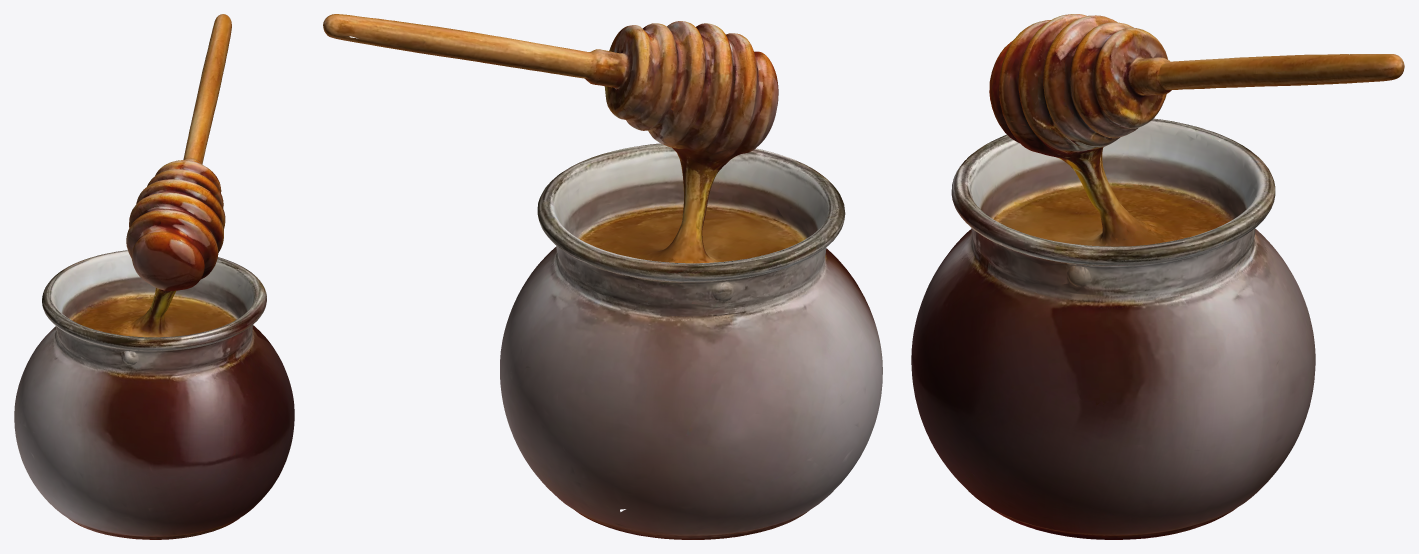
The model's file is teriyaki.glb.
The picture shows the model from 3 angles, left to right: view 1: azimuth 30°, elevation 25°; view 2: azimuth 150°, elevation 25°; view 3: azimuth 270°, elevation 25°; orthographic projection. The views are drawn at different scales.
Visible parts, largest first — view 1: geometry_0; view 2: geometry_0; view 3: geometry_0.
Boxes of the visible parts, x1,y1,x2,y2 form: geometry_0: (14, 14, 294, 539); geometry_0: (323, 14, 882, 539); geometry_0: (911, 14, 1404, 539).
Size of the model in its own units: 0.8046 by 0.9795 by 0.8063.
Materials: 1 (1 with a texture image).
